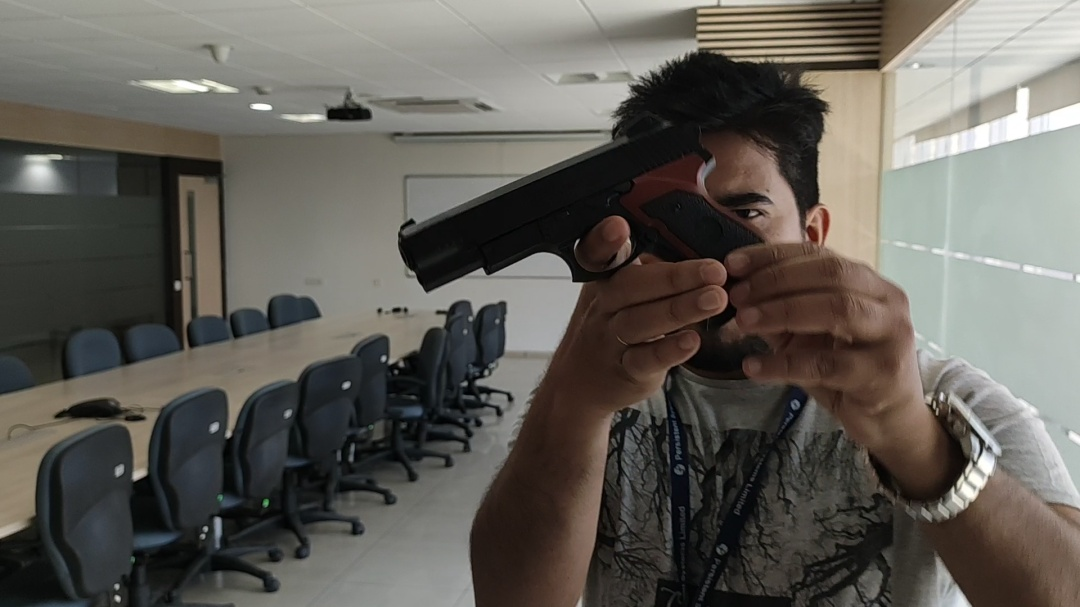gun: (399, 127, 769, 306)
